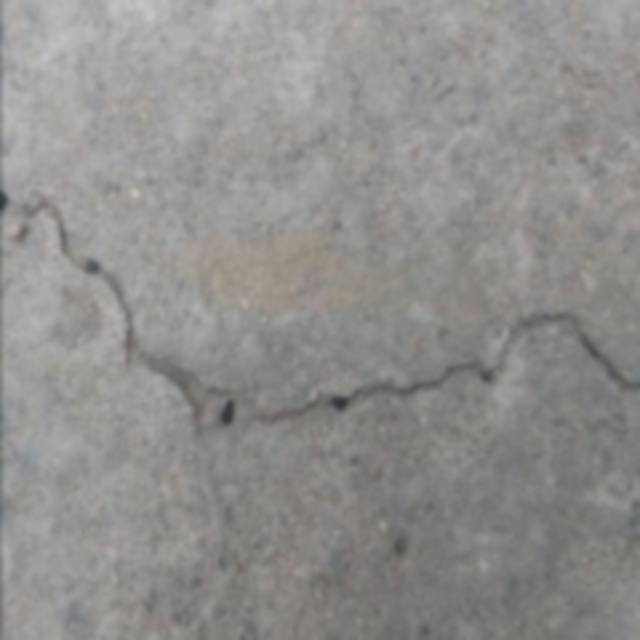SurfaceCrack: (4, 170, 640, 466)
